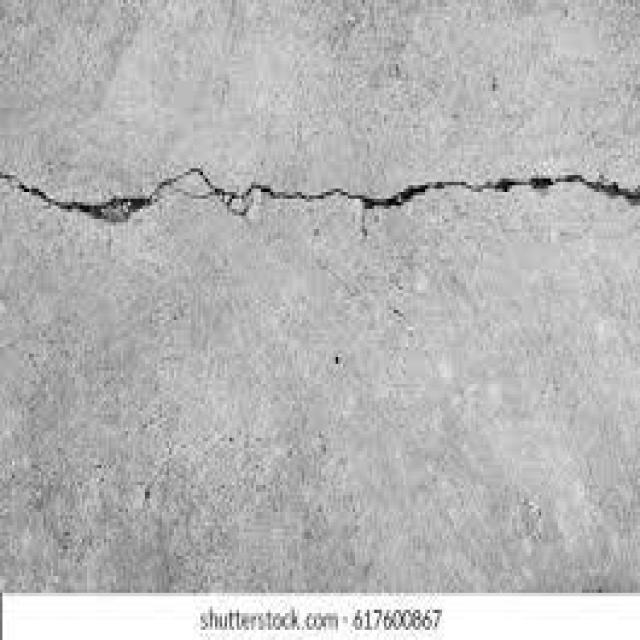Crack: (2, 148, 633, 226)
